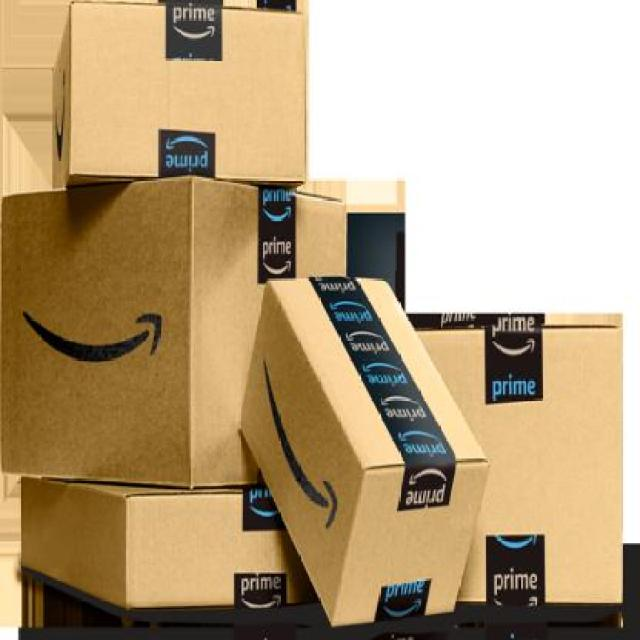cardboxes: (5, 186, 343, 485), (236, 272, 495, 635), (410, 320, 622, 615), (48, 6, 304, 194), (20, 480, 318, 606)
